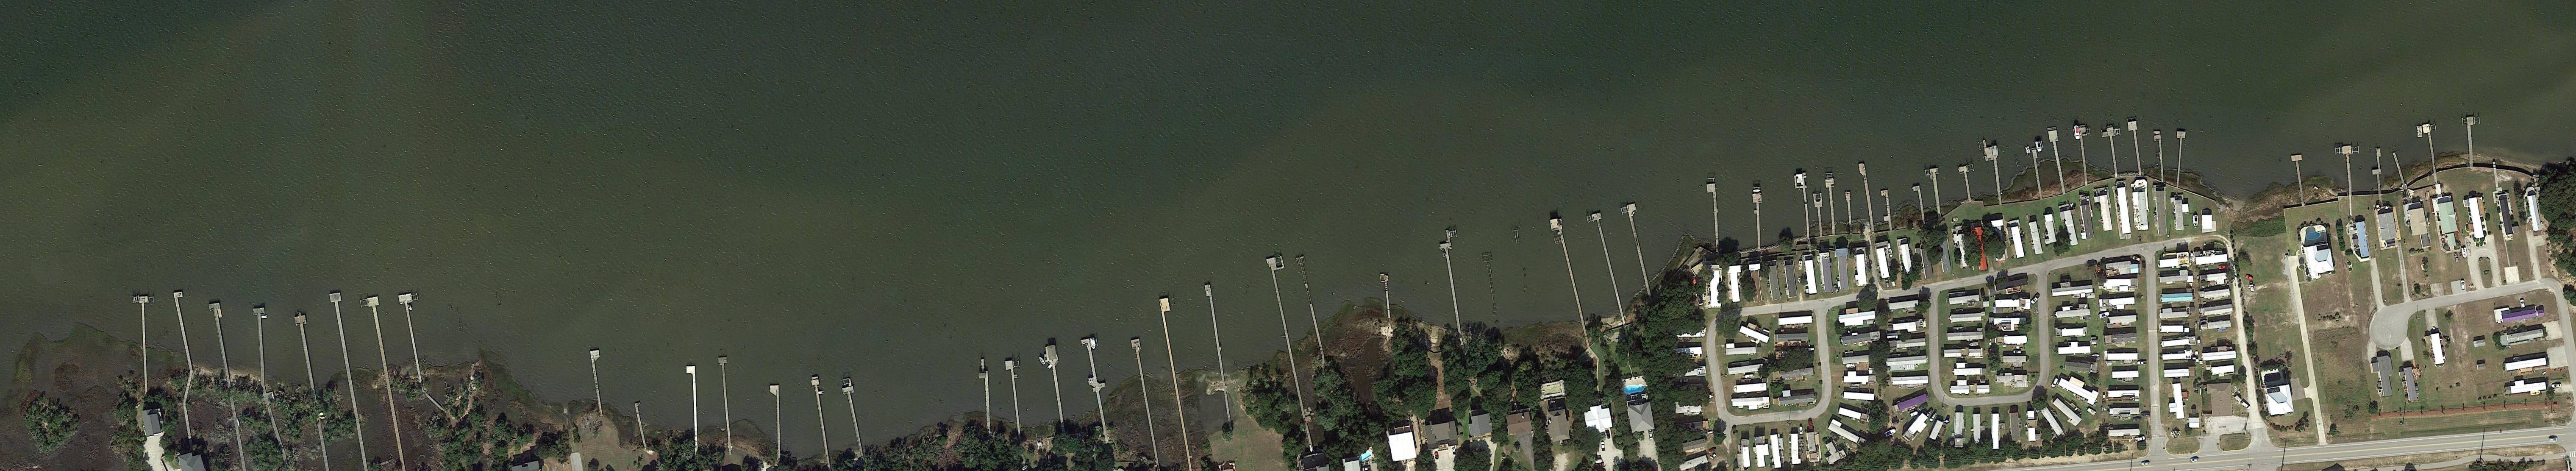harbor: (329, 292, 370, 456), (367, 296, 407, 456), (1159, 298, 1195, 449), (294, 311, 330, 454), (1266, 256, 1305, 376), (208, 303, 241, 427), (1081, 338, 1114, 439), (1130, 339, 1159, 454), (1549, 218, 1584, 313), (1590, 212, 1624, 309), (1437, 230, 1465, 325), (398, 293, 427, 382), (1043, 345, 1069, 434), (1626, 203, 1653, 281), (173, 291, 198, 372), (810, 376, 832, 463), (841, 378, 866, 455), (1204, 284, 1224, 374), (1981, 139, 2004, 206), (2047, 127, 2069, 193), (138, 296, 152, 390), (718, 357, 733, 440), (589, 350, 608, 415), (253, 307, 269, 385), (1005, 361, 1022, 432), (1794, 173, 1812, 236), (1858, 163, 1875, 230), (2101, 125, 2120, 180), (686, 366, 699, 449), (977, 359, 991, 429), (2127, 117, 2144, 175), (1706, 184, 1720, 244), (770, 385, 781, 456), (2422, 124, 2437, 174), (1929, 168, 1944, 218), (2079, 126, 2092, 183), (2173, 131, 2186, 188), (2030, 148, 2045, 199), (2342, 145, 2356, 196), (634, 403, 649, 448), (2370, 148, 2384, 194), (1826, 179, 1838, 231), (1752, 194, 1764, 246), (1957, 166, 1973, 203), (2153, 131, 2164, 184), (2291, 155, 2306, 192), (1812, 193, 1825, 237), (1912, 185, 1926, 223), (1881, 190, 1892, 230), (1380, 273, 1392, 312), (2467, 117, 2476, 167), (2393, 153, 2406, 185), (1844, 192, 1853, 225)
